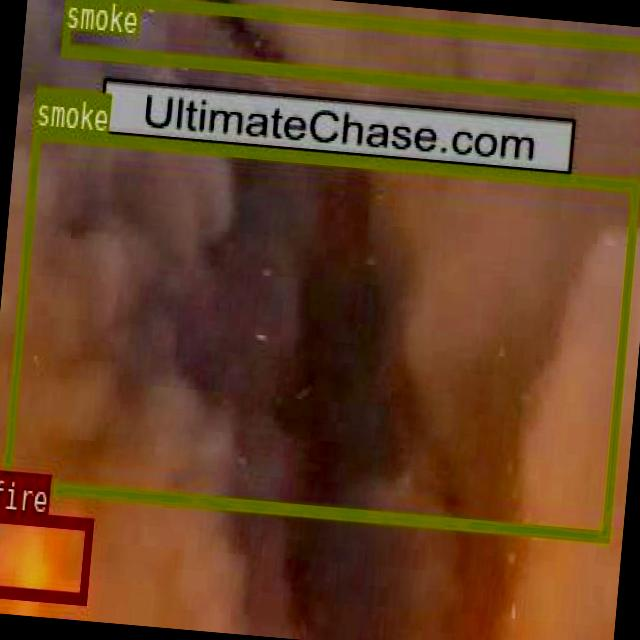fire: (0, 508, 92, 601)
smoke: (1, 124, 639, 541), (59, 0, 640, 103)
